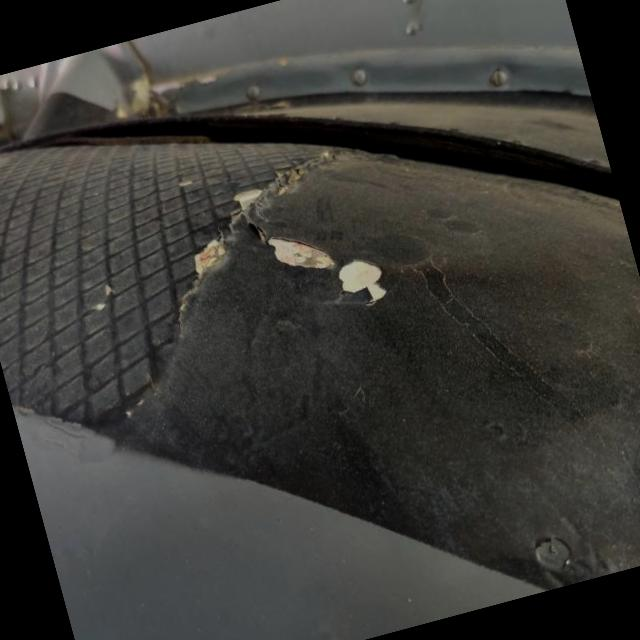paint-off: (229, 171, 413, 352), (170, 220, 248, 294), (222, 176, 272, 228)
